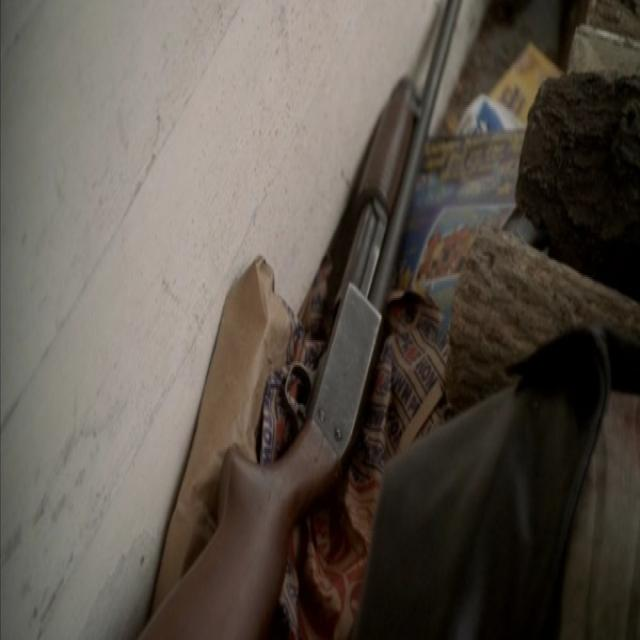rifle: (133, 1, 472, 640)
